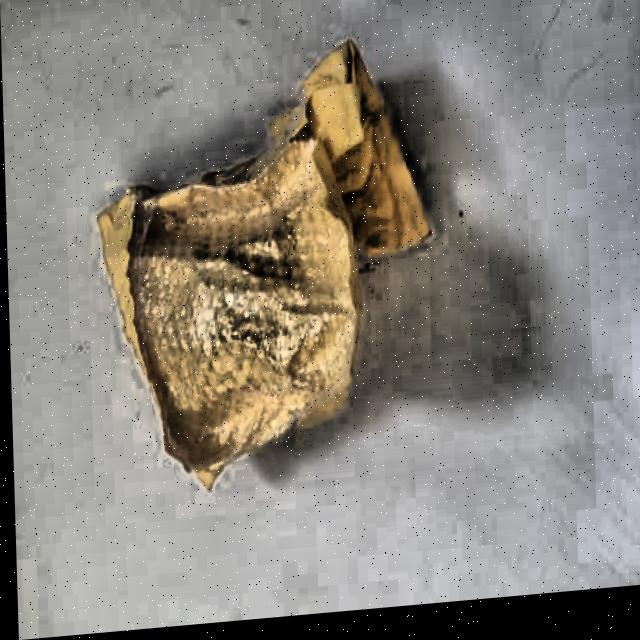paper: (92, 32, 442, 502)
